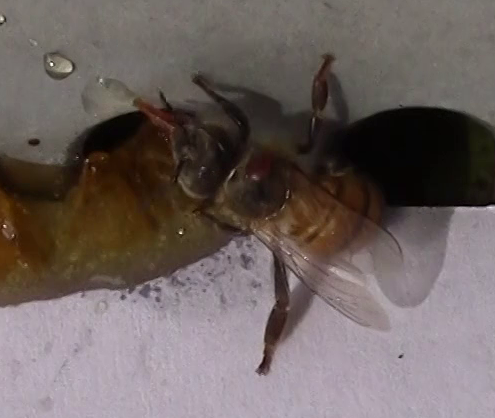Varroa destructor: (242, 151, 277, 181)
